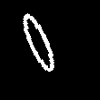chain: (23, 14, 53, 70)
